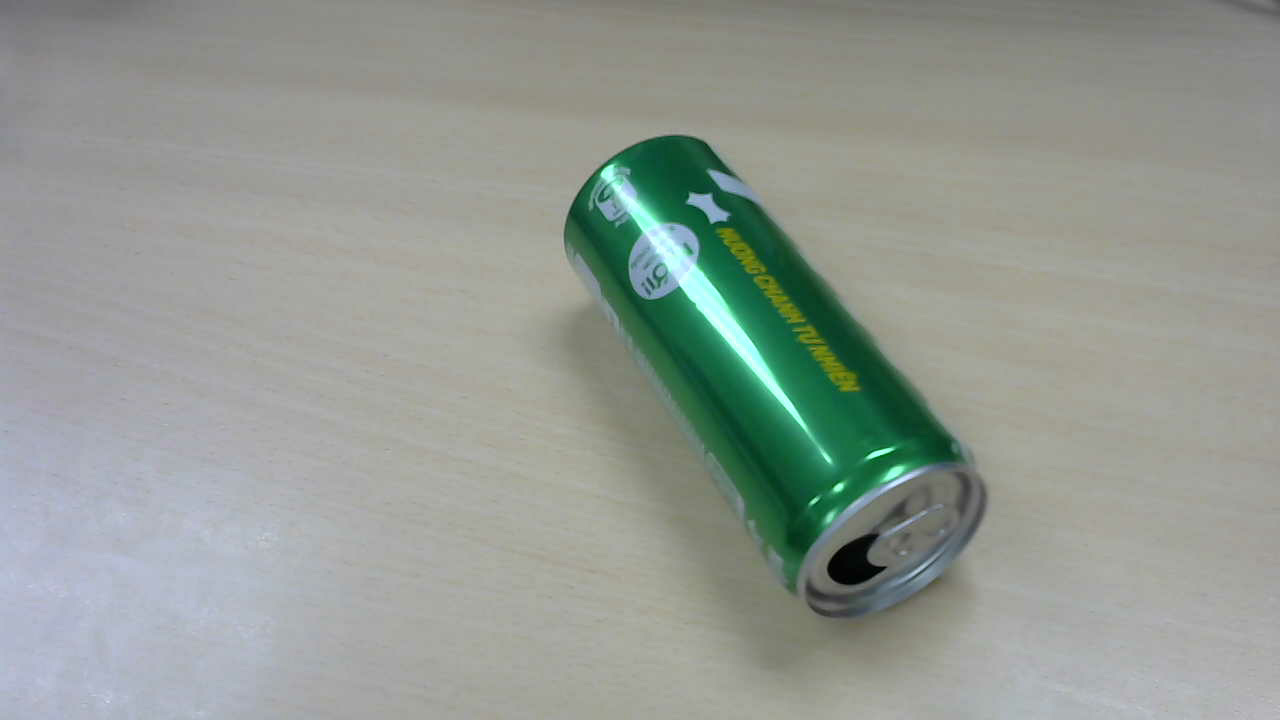Sprite: (561, 139, 998, 638)
